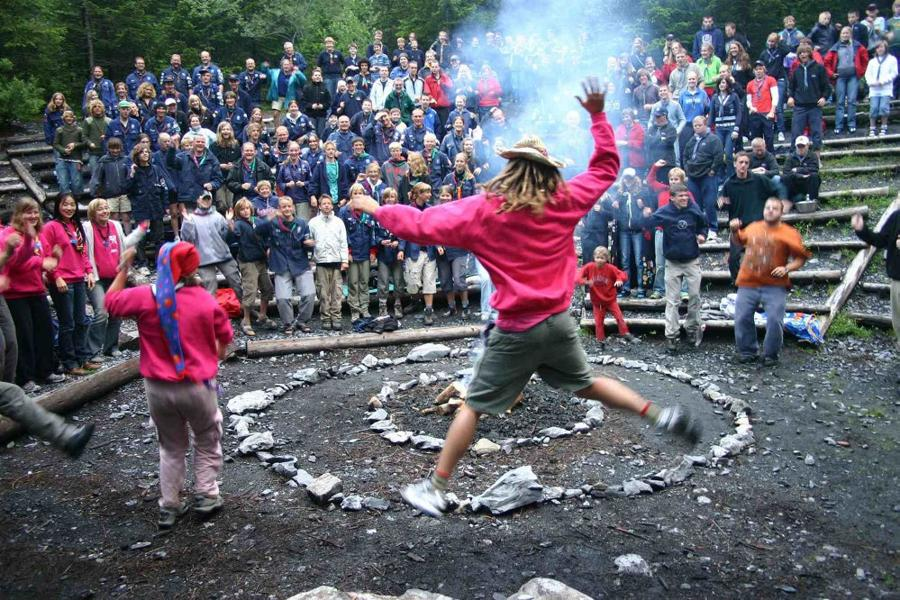person: (343, 86, 702, 514)
